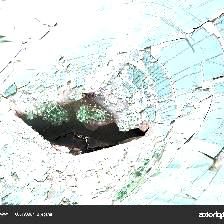glass_shatter: (20, 34, 190, 175)
